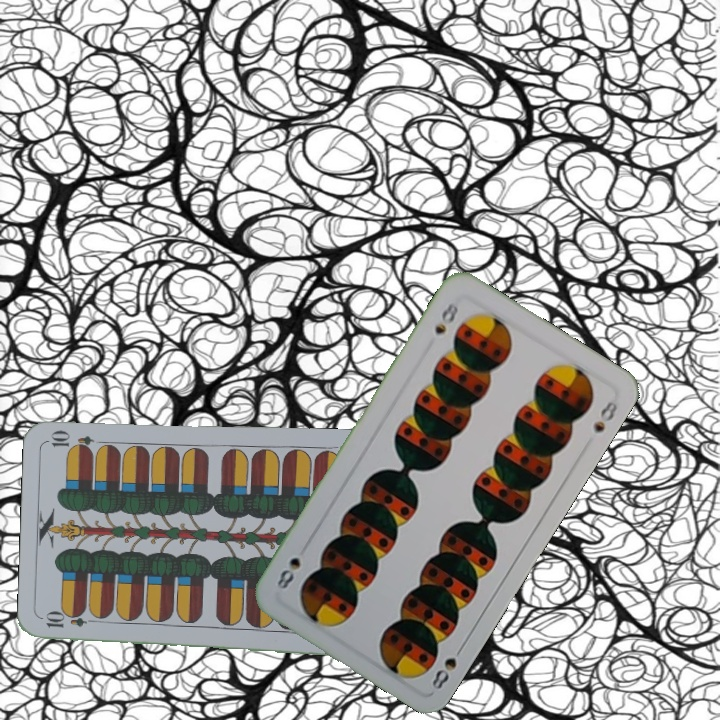E10: (42, 612, 101, 630)
S8: (427, 640, 468, 695), (430, 298, 461, 337)
